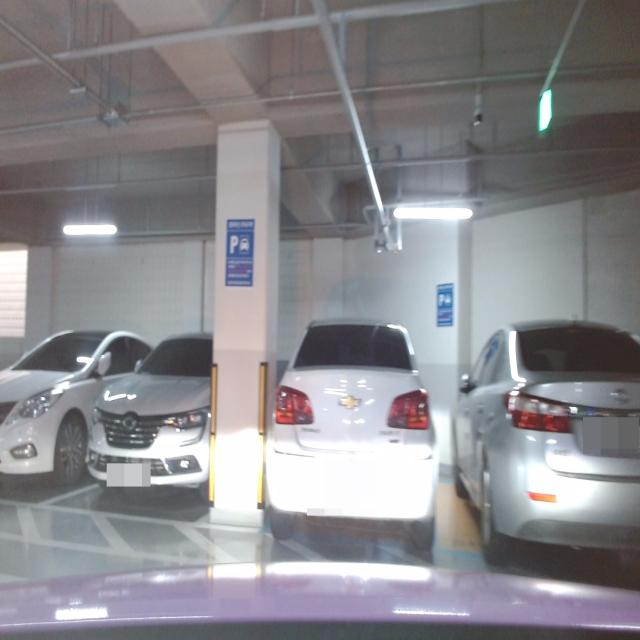occupied: (451, 317, 640, 575), (267, 320, 438, 560), (92, 329, 215, 510), (0, 317, 105, 507)
